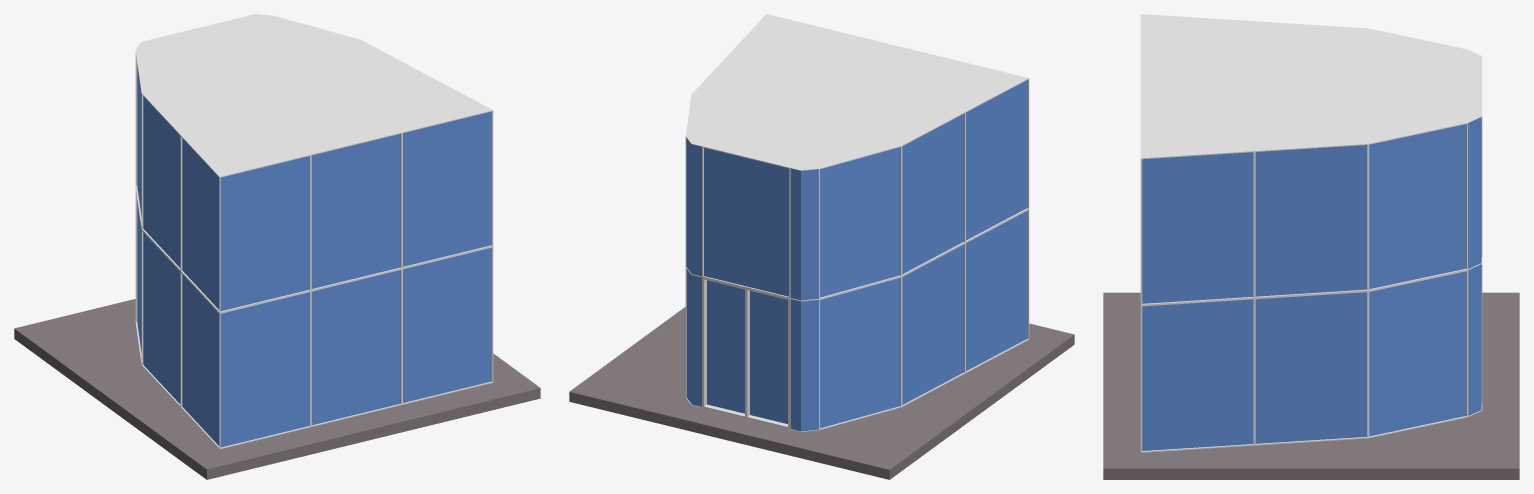
Rendered from building_1x1_11_g.glb.
3 views of the same model, side by side, from view 1: azimuth 30°, elevation 25°; view 2: azimuth 150°, elevation 25°; view 3: azimuth 270°, elevation 25° (orthographic). The views are drawn at different scales.
Parts seen in each view (by area): view 1: FirstFloor; view 2: FirstFloor; view 3: FirstFloor.
Boxes of the visible parts, x1,y1,x2,y2 form: FirstFloor: [14, 14, 540, 479]; FirstFloor: [569, 14, 1074, 479]; FirstFloor: [1103, 14, 1519, 479].
Size of the model in its own units: 2 by 1.62 by 2.
